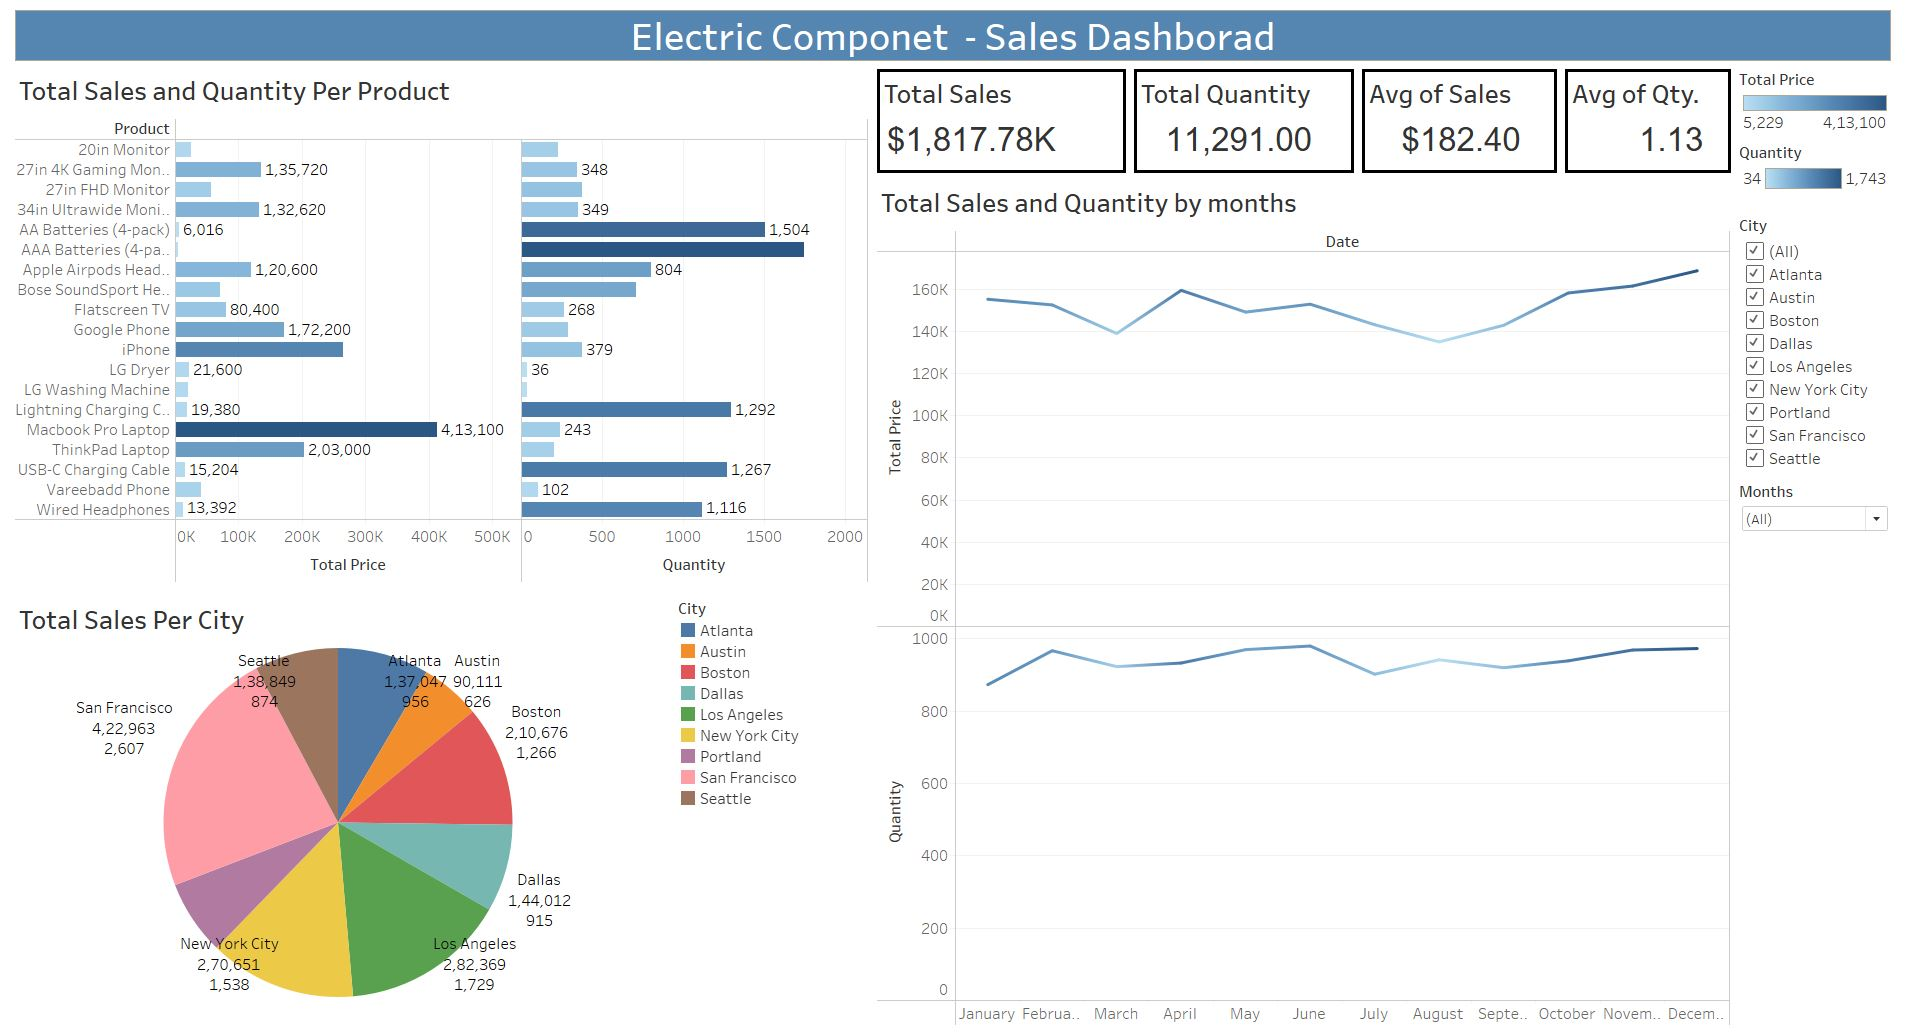

Layout of this report page (visuals, bound fields, positions):
{"tool":"tableau","page":{"name":"Sales Dashboard","canvas":[1900,1040],"ordinal":0},"visuals":[{"type":"title","box":[8,8,1884,48]},{"type":"worksheet","title":"Total Sales and Quantity Per Product","mark":"Automatic","rows":["product"],"cols":["total_price","quantity"],"box":[8,56,862,535.1]},{"type":"worksheet","title":"Total Sales","mark":"Automatic","box":[870,56,257,113.2]},{"type":"worksheet","title":"Total Quantity","mark":"Automatic","box":[1127,56,228,113.2]},{"type":"worksheet","title":"Avg of Sales","mark":"Automatic","box":[1355,56,203,113.2]},{"type":"worksheet","title":"Avg of Quantity","mark":"Automatic","box":[1558,56,174,113.2]},{"type":"legend","title":"Total Sales and Quantity Per Product","param":"[federated.08hl2kj1t9i7z010bt57v0nt8l1j].[sum:total_price:qk]","box":[1732,56,160,68]},{"type":"legend","title":"Total Sales and Quantity Per Product","param":"[federated.08hl2kj1t9i7z010bt57v0nt8l1j].[sum:quantity:qk]","box":[1732,124,160,68]},{"type":"worksheet","title":"Total Sales and Quantity by months","mark":"Automatic","rows":["total_price","quantity"],"cols":["date"],"box":[870,169.2,862,862.8]},{"type":"filter","title":"Total Sales and Quantity Per Product","param":"[federated.08hl2kj1t9i7z010bt57v0nt8l1j].[none:city:nk]","box":[1732,192,160,233]},{"type":"filter","title":"Total Sales and Quantity Per Product","param":"[federated.08hl2kj1t9i7z010bt57v0nt8l1j].[mn:date:ok]","box":[1732,425,160,56]},{"type":"worksheet","title":"Total Sales Per City","mark":"Pie","box":[8,591.1,663,440.9]},{"type":"legend","title":"Total Sales Per City","param":"[federated.08hl2kj1t9i7z010bt57v0nt8l1j].[none:city:nk]","box":[671,591.1,199,440.9]}]}

Visuals, with their boxes in screenshot pixels (x1, y1, x2, y2), scaled from the page's 1900x1040 canvas onto the 1906x1035 screenshot:
title: 8/8/1898/56
"Total Sales and Quantity Per Product" worksheet: 8/56/873/588
"Total Sales" worksheet: 873/56/1131/168
"Total Quantity" worksheet: 1131/56/1359/168
"Avg of Sales" worksheet: 1359/56/1563/168
"Avg of Quantity" worksheet: 1563/56/1737/168
"Total Sales and Quantity Per Product" legend: 1737/56/1898/123
"Total Sales and Quantity Per Product" legend: 1737/123/1898/191
"Total Sales and Quantity by months" worksheet: 873/168/1737/1027
"Total Sales and Quantity Per Product" filter: 1737/191/1898/423
"Total Sales and Quantity Per Product" filter: 1737/423/1898/479
"Total Sales Per City" worksheet (Pie marks): 8/588/673/1027
"Total Sales Per City" legend: 673/588/873/1027
